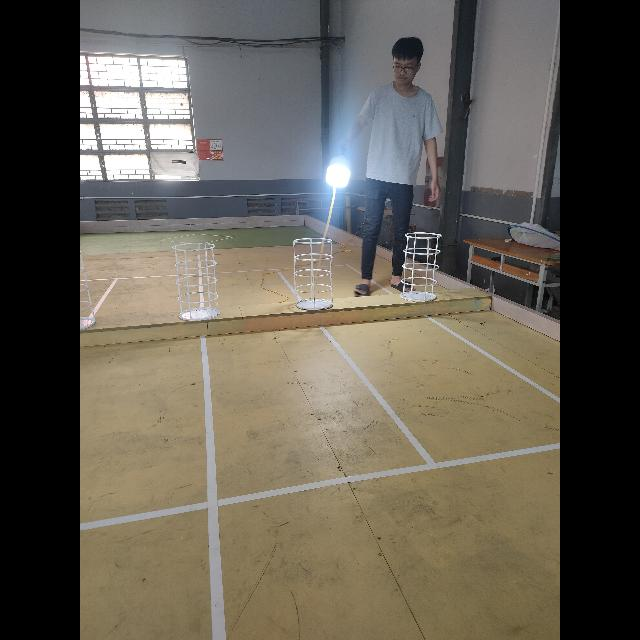S: (172, 240, 222, 324), (399, 230, 446, 304), (292, 236, 336, 315), (80, 251, 99, 336)
